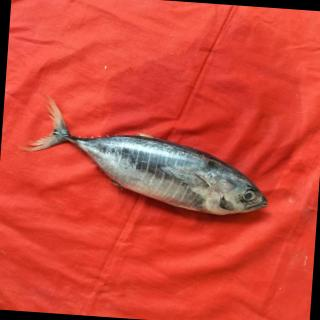Ikan: (31, 86, 282, 232)
